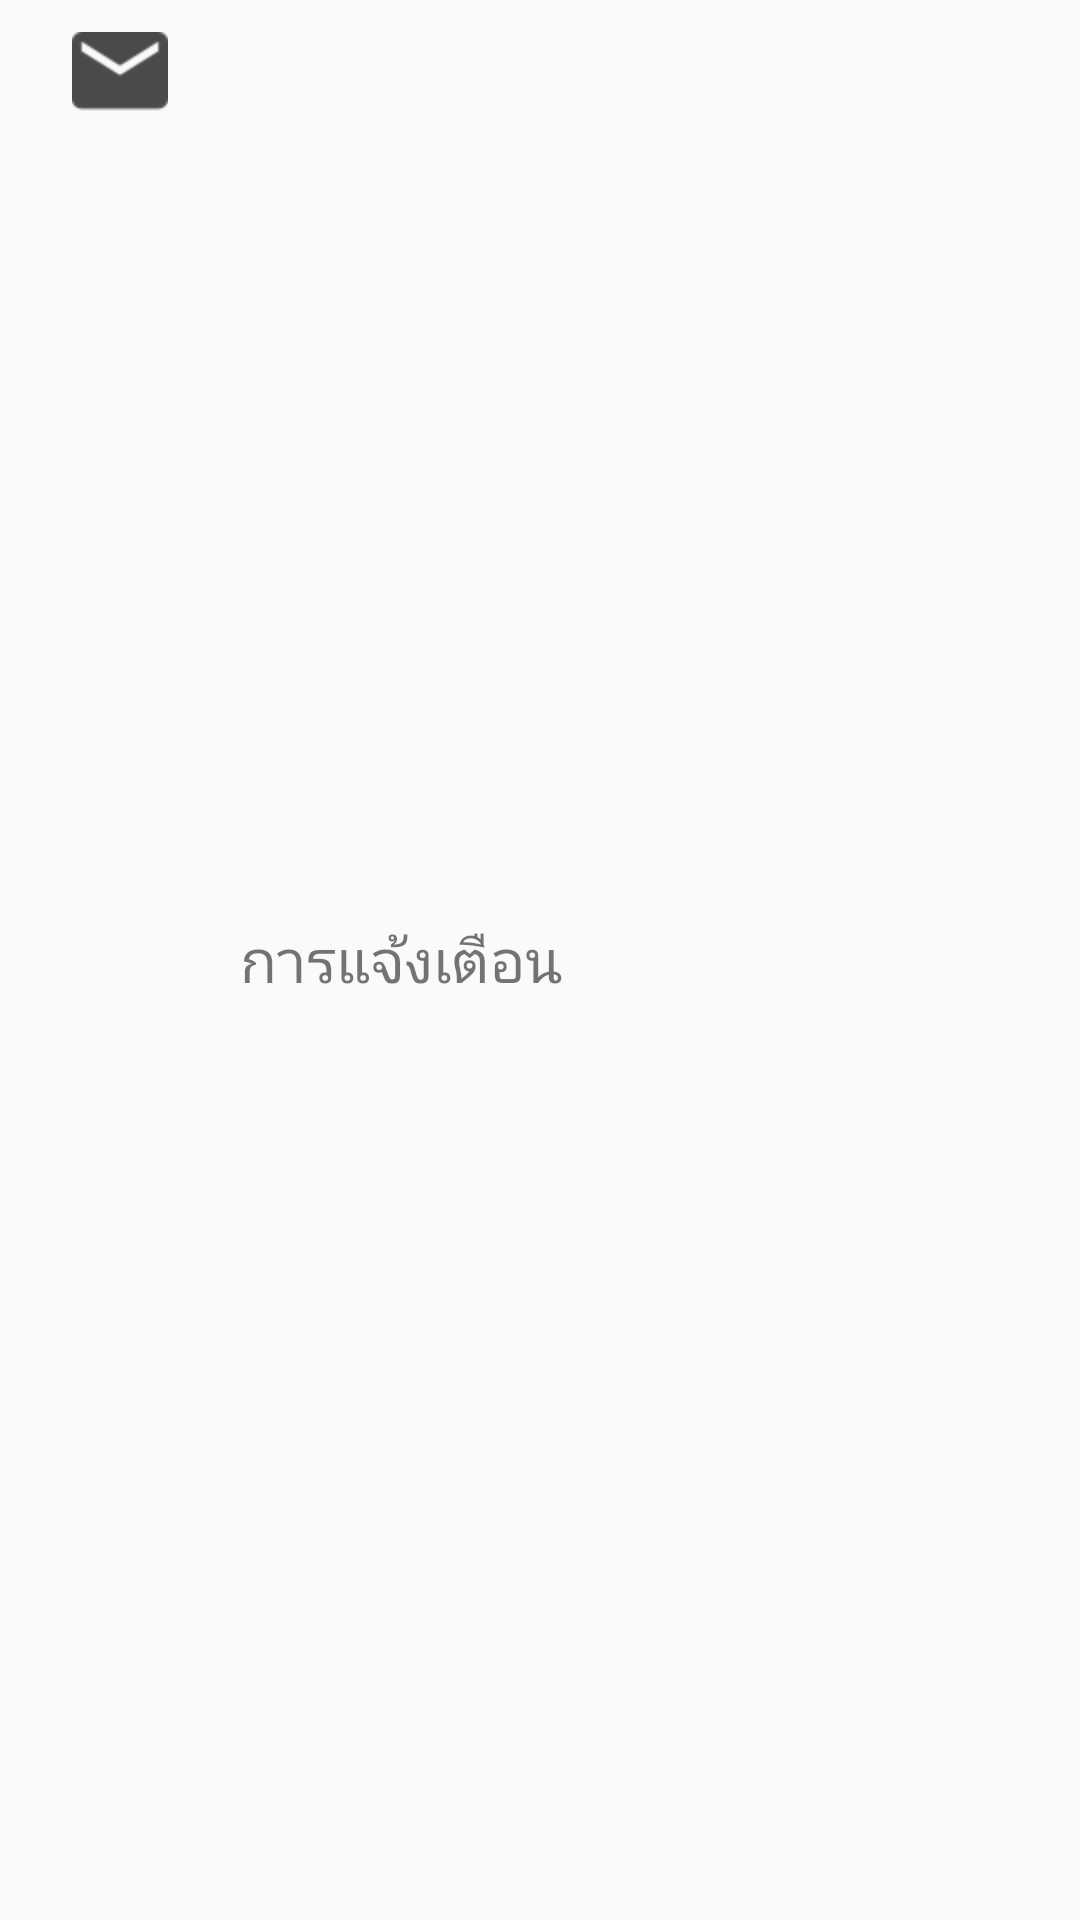

Screen size 1080×1920. Icon name, then its box in pixels as bbox(x1, y1, x2, y2):
notification: bbox(72, 32, 168, 110)
